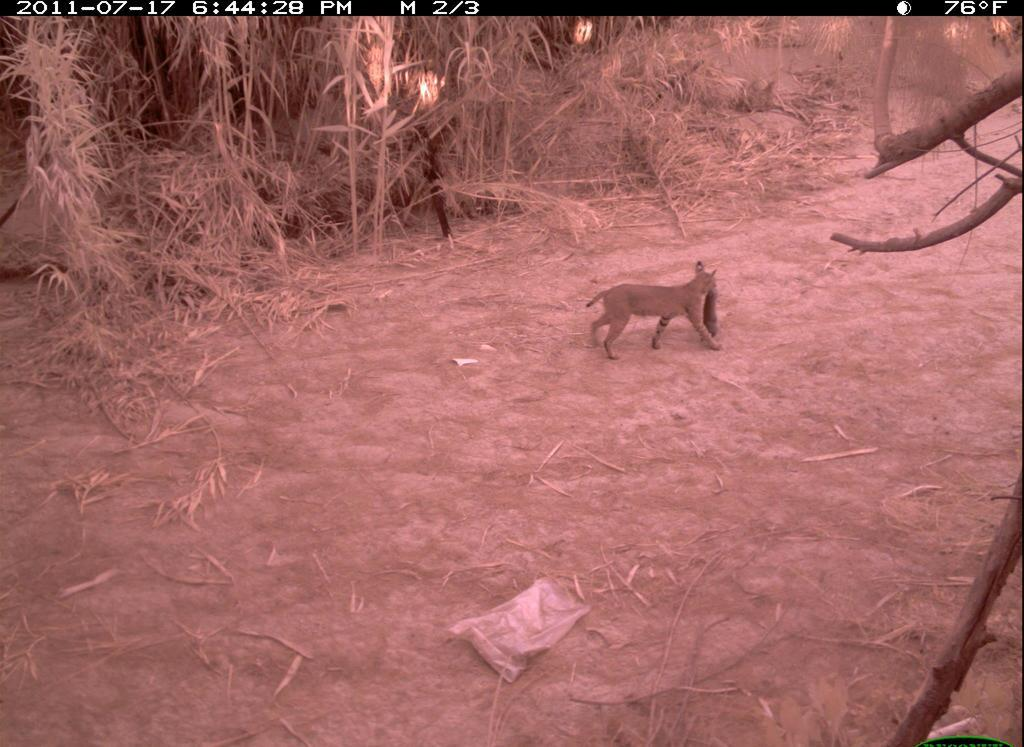bobcat: (583, 261, 737, 363)
